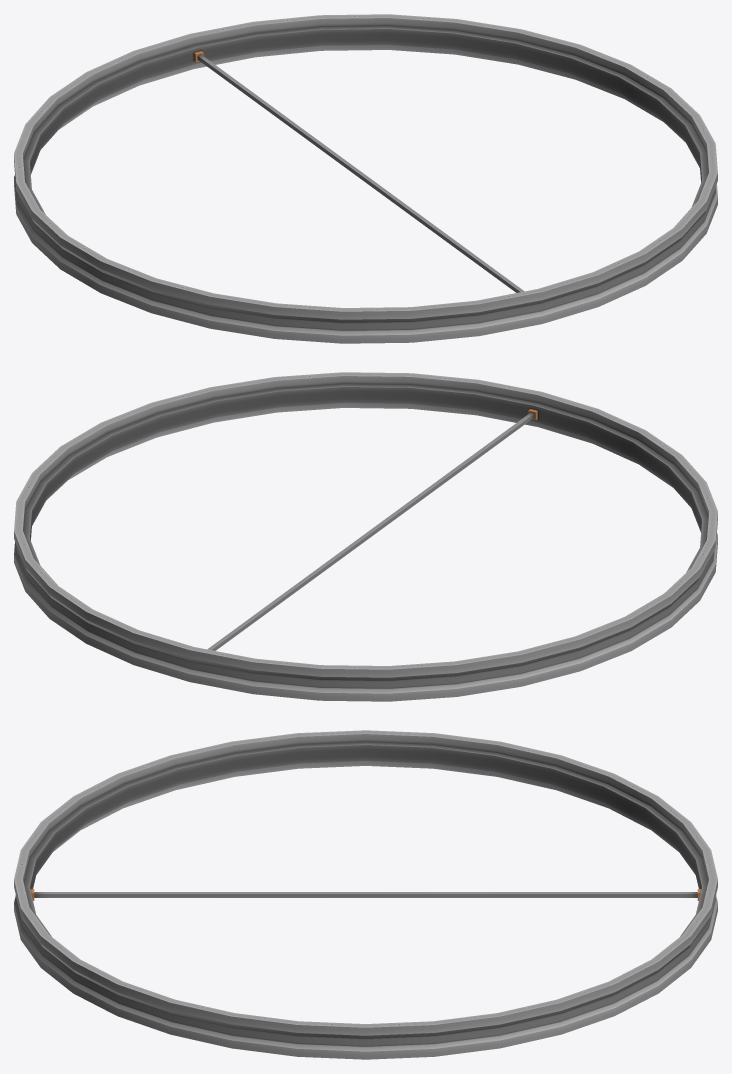
Rendered from LLV_A_Decoupler_1.obj.
The picture shows the model from 3 angles, top to bottom: view 1: azimuth 30°, elevation 25°; view 2: azimuth 150°, elevation 25°; view 3: azimuth 270°, elevation 25°; orthographic projection.
Parts seen in each view (by area): view 1: LLV_A_Decoupler_1; view 2: LLV_A_Decoupler_1; view 3: LLV_A_Decoupler_1.
Boxes of the visible parts, left/top/right/bottom form: LLV_A_Decoupler_1: left=14, top=14, right=717, bottom=343; LLV_A_Decoupler_1: left=14, top=372, right=717, bottom=701; LLV_A_Decoupler_1: left=14, top=730, right=717, bottom=1059.
Bounding box in the file's own units: 5 × 0.25 × 5.
1 material, 1 textured.
